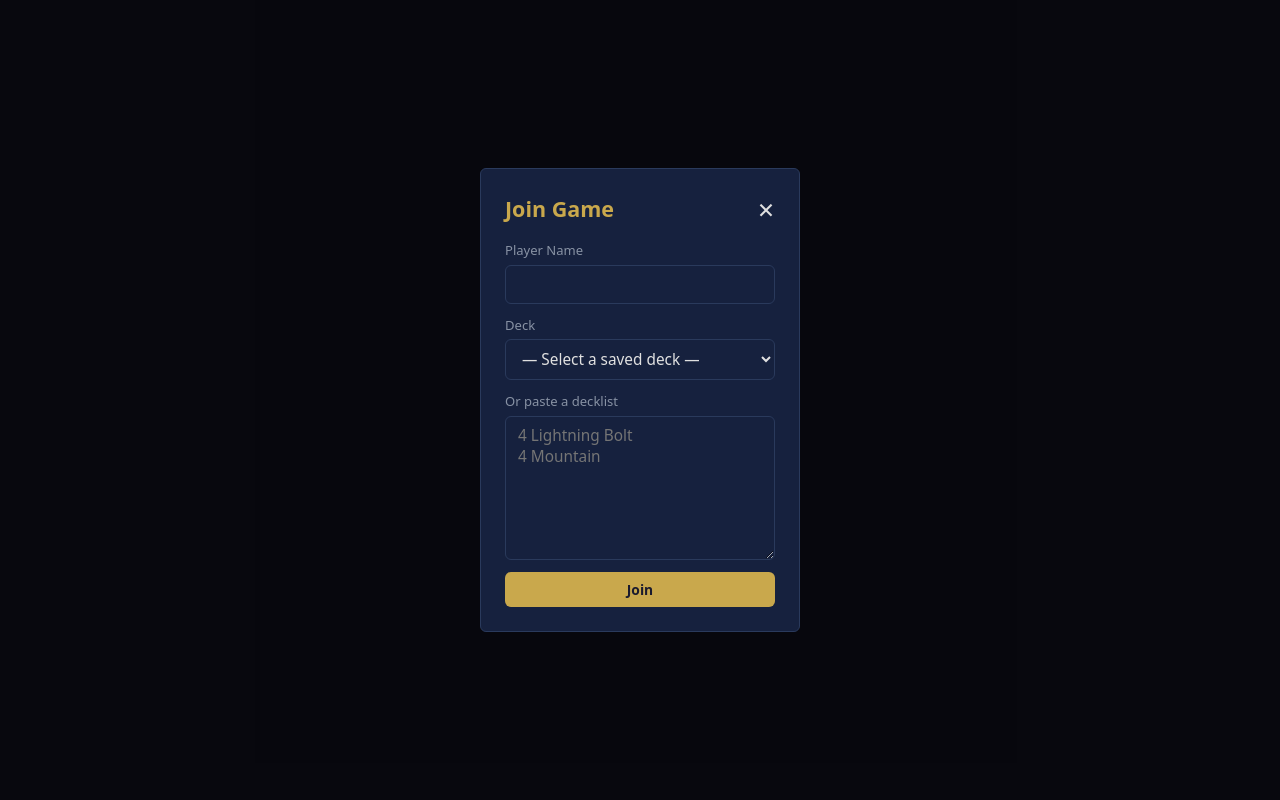
Test: JoinGameDialog › shows error when name is empty
Click the button "Join" at (640, 590), box [505,572,775,607]
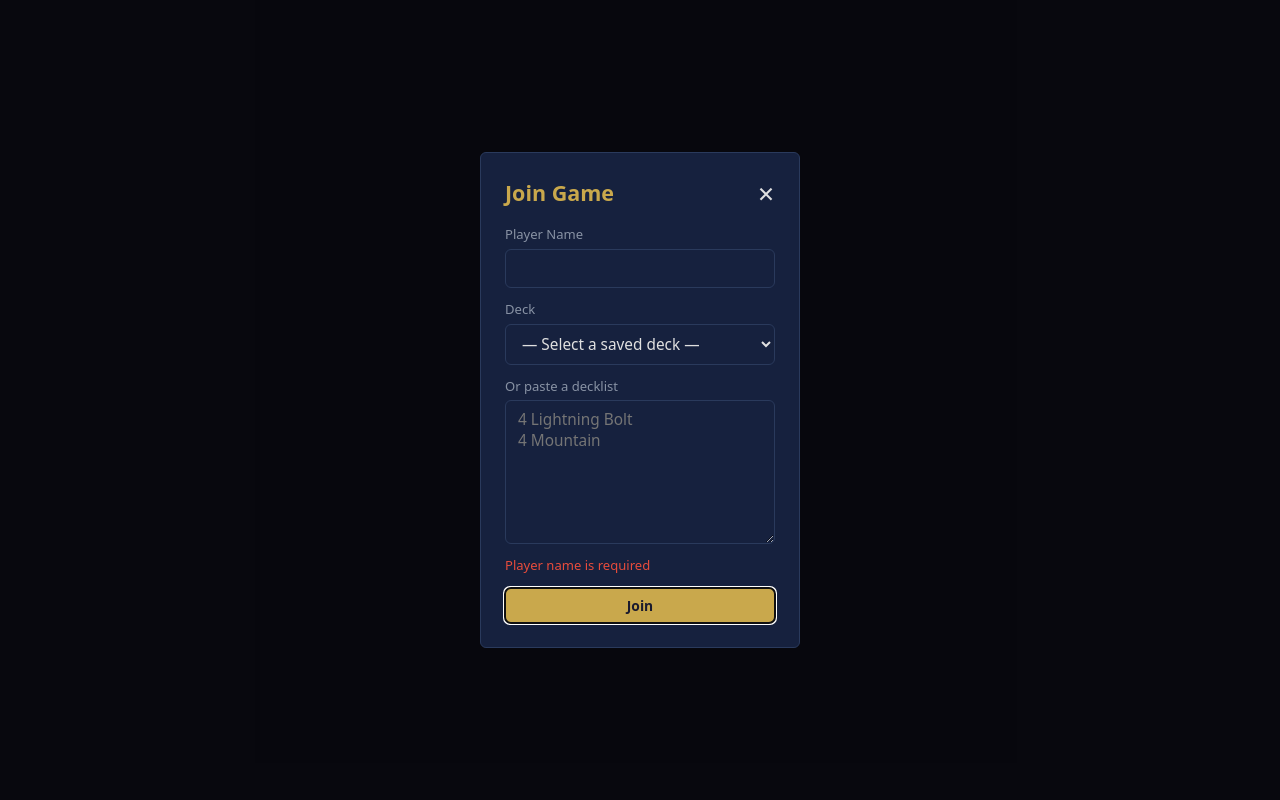
Now the message reads "Player name is required", box [505,556,650,574]
